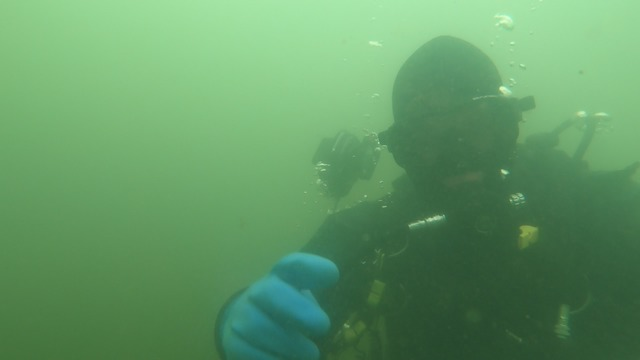Diver: (170, 11, 634, 359)
Hand: (201, 241, 356, 352)
Head: (363, 28, 568, 249)
